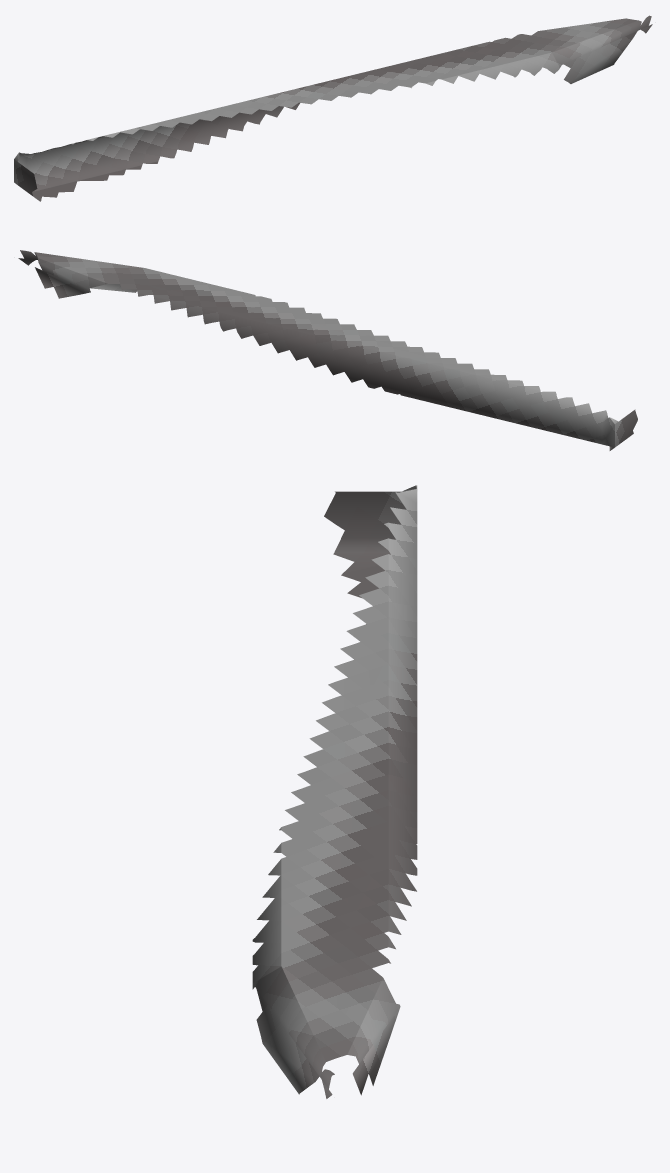
Rendered from stone_sword.fbx.
3 views of the same model, one above another, from view 1: azimuth 30°, elevation 25°; view 2: azimuth 150°, elevation 25°; view 3: azimuth 270°, elevation 25° (orthographic). The views are drawn at different scales.
Parts seen in each view (by area): view 1: pasted__pCube7; view 2: pasted__pCube7; view 3: pasted__pCube7.
Part boxes in pixels (x1,y1,x2,y2): pasted__pCube7: (14, 15, 652, 201); pasted__pCube7: (18, 250, 637, 450); pasted__pCube7: (252, 485, 417, 1098).
Size of the model in its own units: 3.17 by 0.2456 by 1.
